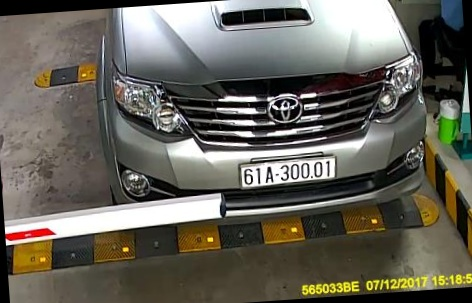plate: (237, 151, 343, 187)
